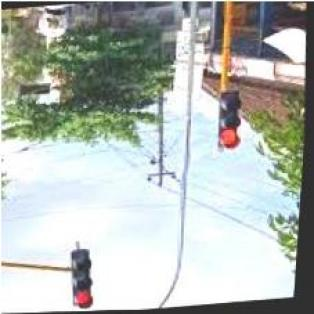Semaforo Rojo: (218, 91, 248, 152), (71, 249, 98, 311)
